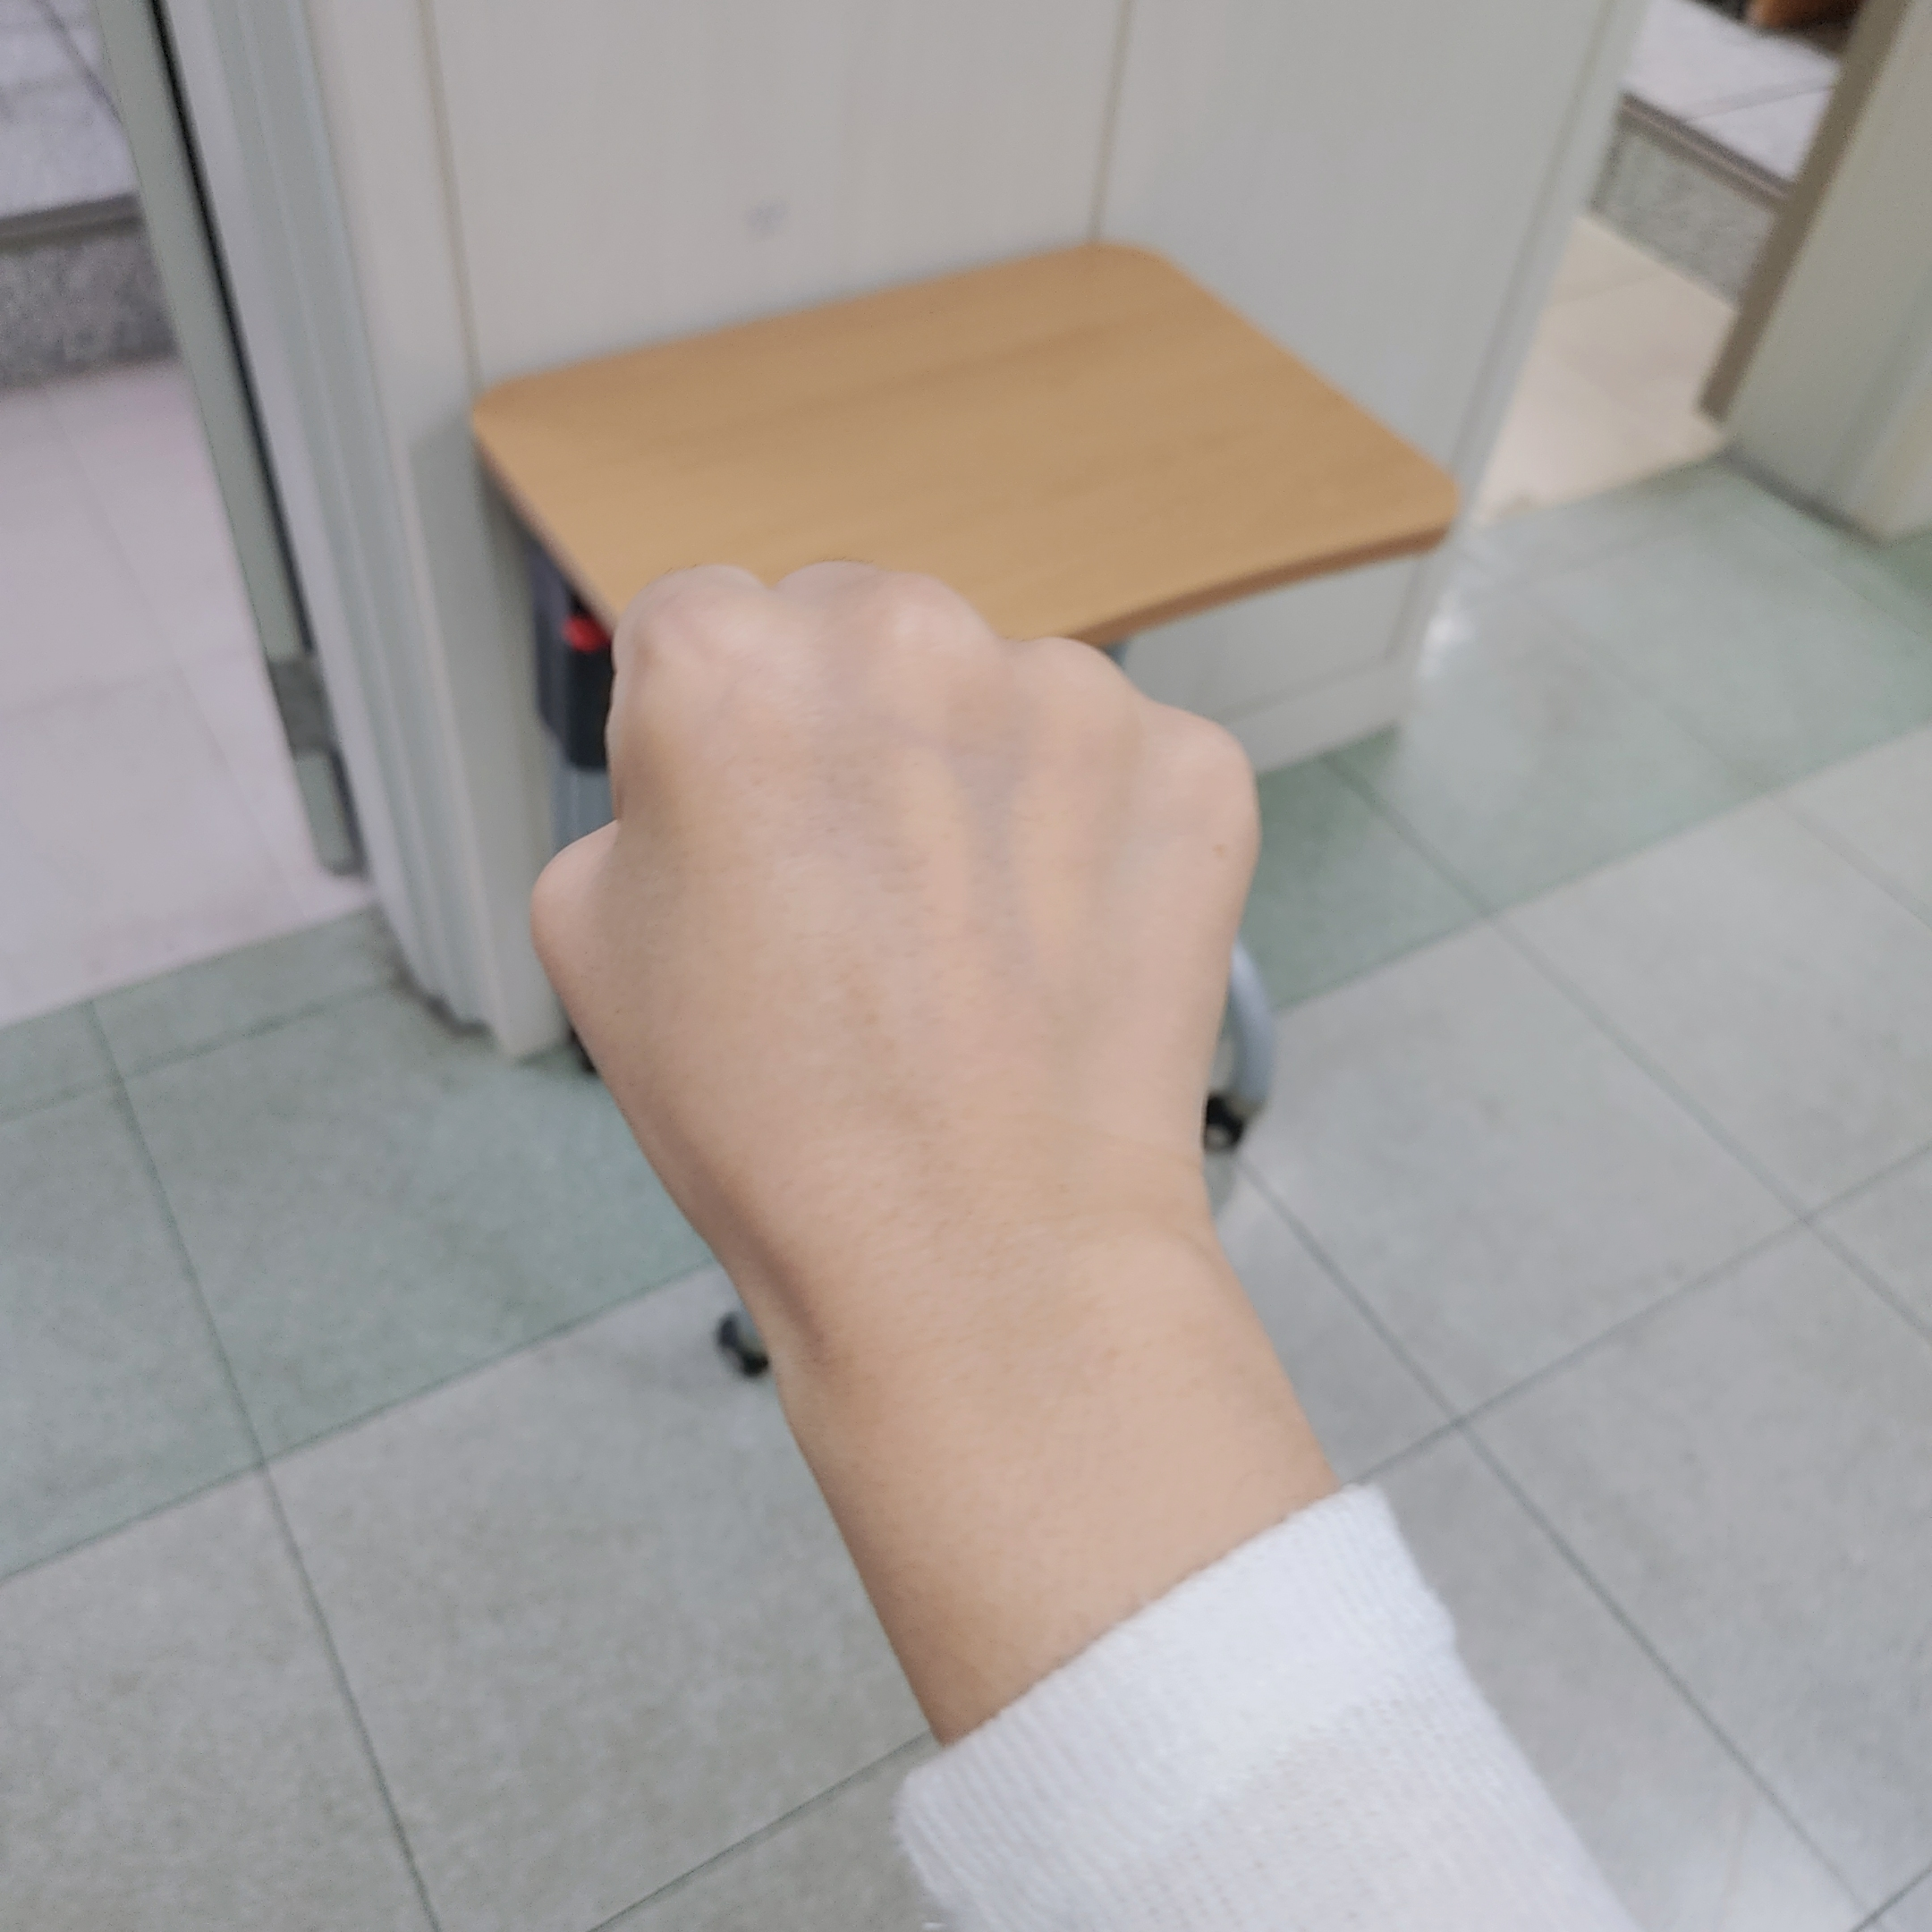smile: (521, 552, 1278, 1372)
